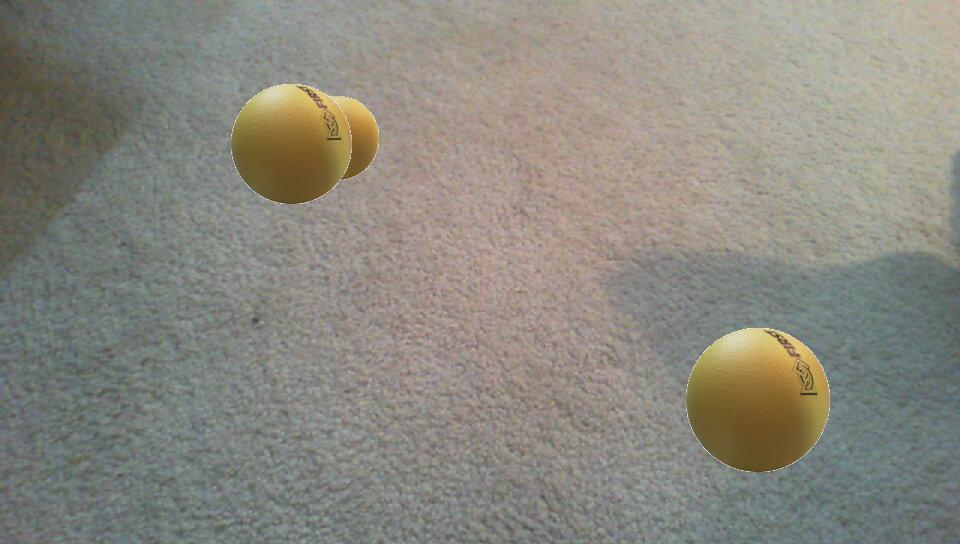Power_Cell: (686, 328, 830, 472), (231, 84, 352, 204), (296, 96, 379, 180)
